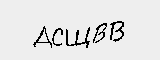В: (107, 18, 126, 42), (92, 19, 108, 46)
Д: (29, 25, 52, 47)
С: (49, 25, 64, 49)
Щ: (63, 24, 90, 49)
